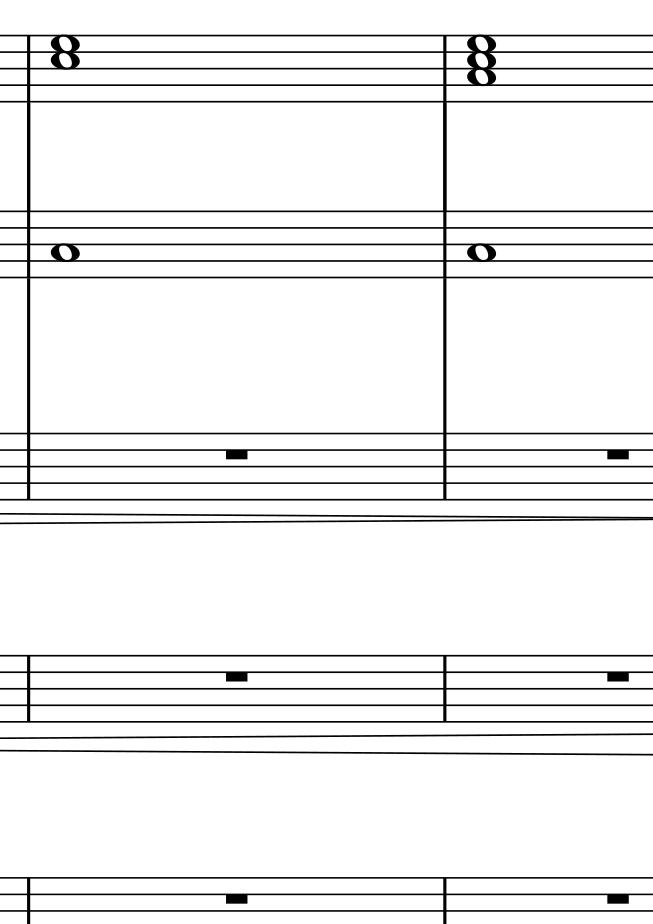1_3: (49, 208, 81, 280), (466, 210, 497, 279)
1_th: (465, 32, 497, 104)
Rests1: (221, 445, 251, 463), (221, 890, 251, 908), (602, 445, 632, 462), (221, 668, 251, 685), (602, 890, 632, 907), (602, 668, 632, 684)
Single_barline: (434, 212, 453, 274), (19, 36, 36, 100), (19, 211, 36, 275), (436, 36, 453, 99), (437, 432, 452, 501), (20, 432, 35, 498), (21, 656, 35, 722), (438, 656, 452, 721)
